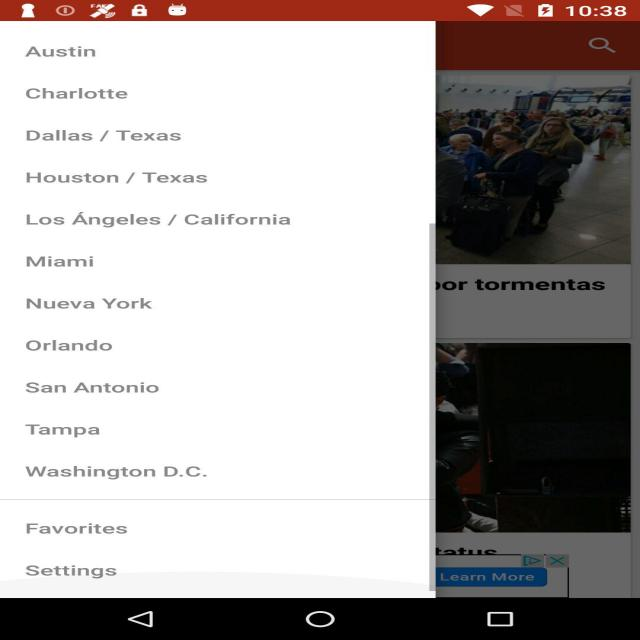text: (6, 207, 338, 233), (26, 452, 234, 489), (25, 557, 222, 596), (17, 512, 206, 546), (23, 165, 276, 190), (8, 411, 196, 444), (12, 373, 204, 405), (11, 290, 185, 318), (9, 128, 232, 147), (12, 83, 172, 109), (17, 249, 126, 282), (2, 336, 161, 358), (17, 36, 116, 66)
